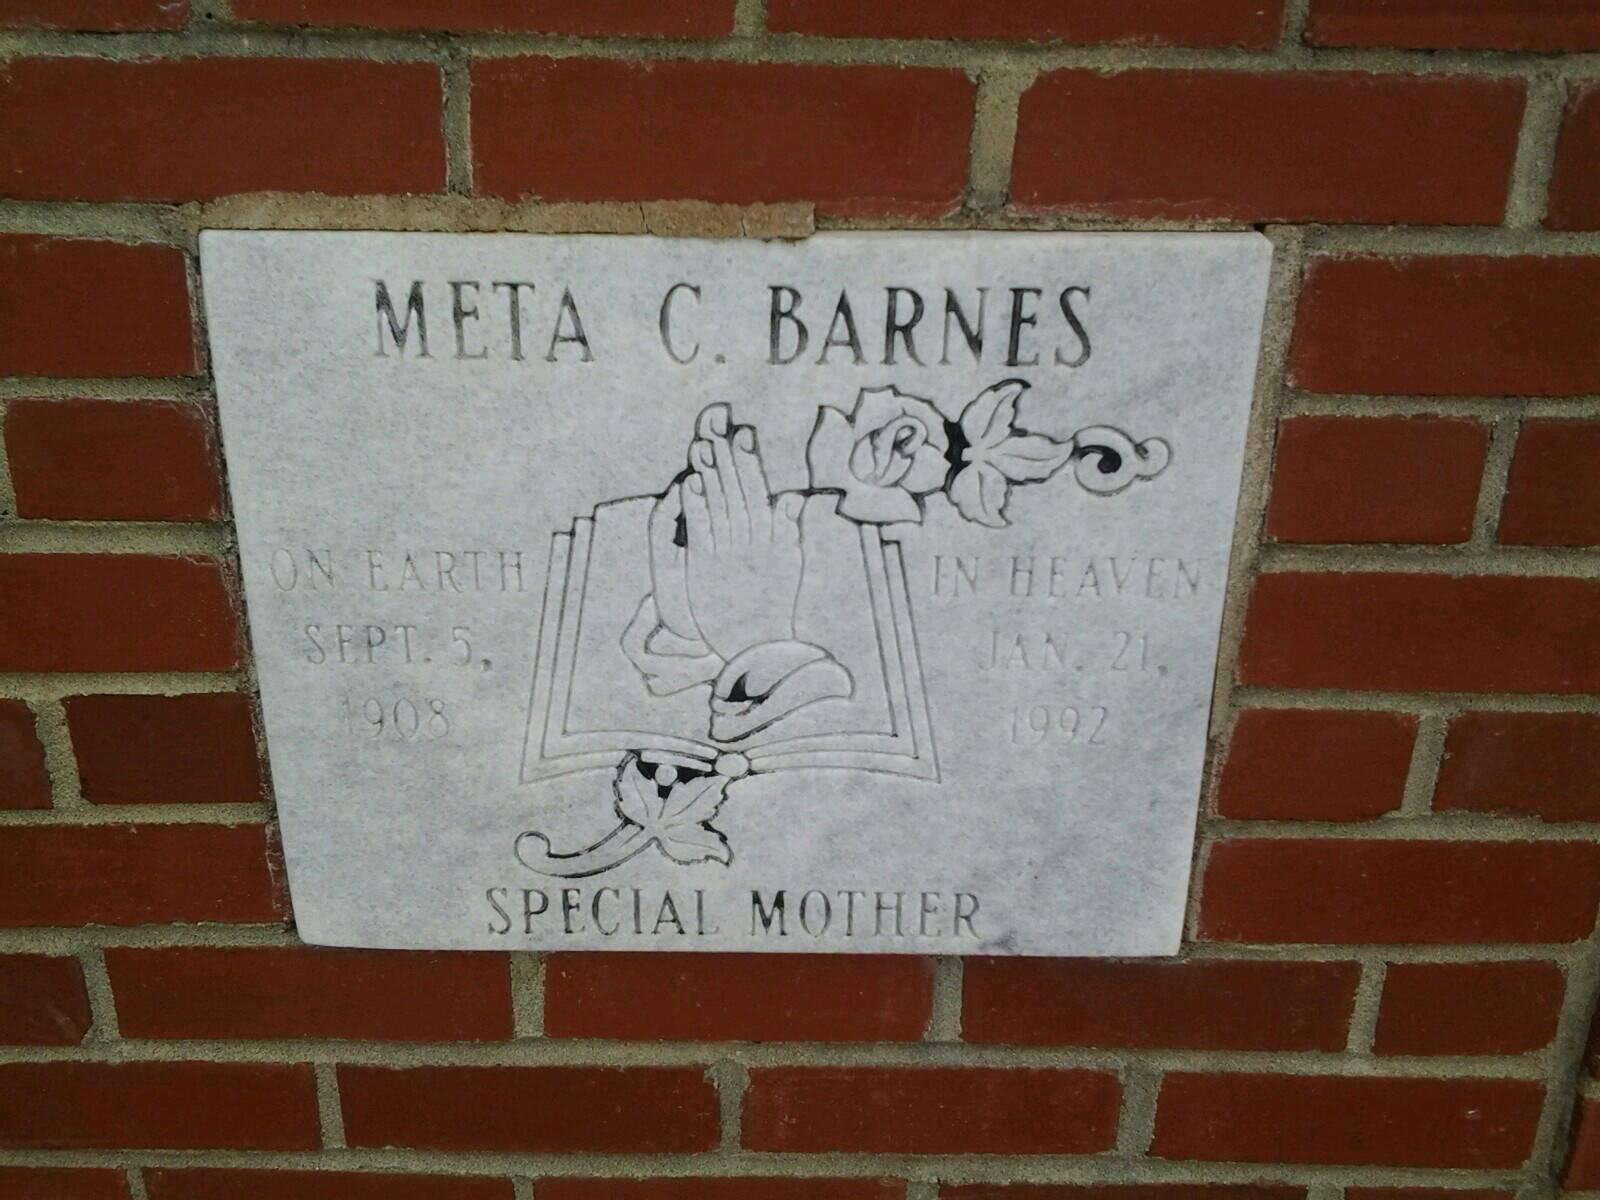plaque: (197, 223, 1276, 953)
